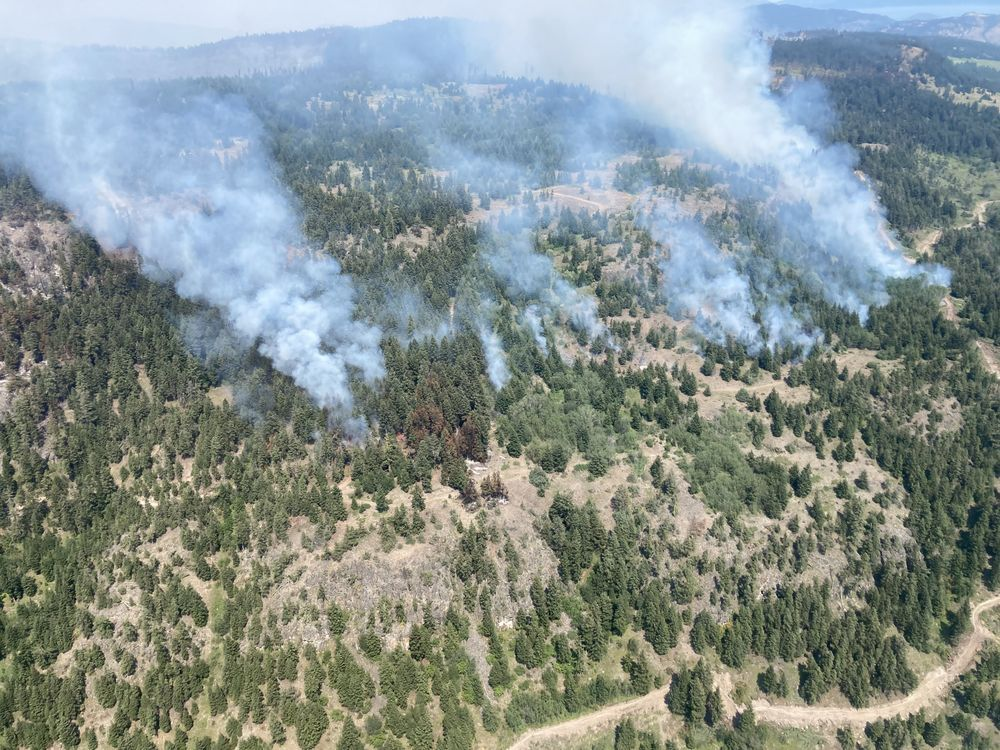fire: (642, 141, 958, 359), (182, 237, 432, 467), (460, 228, 671, 388)
